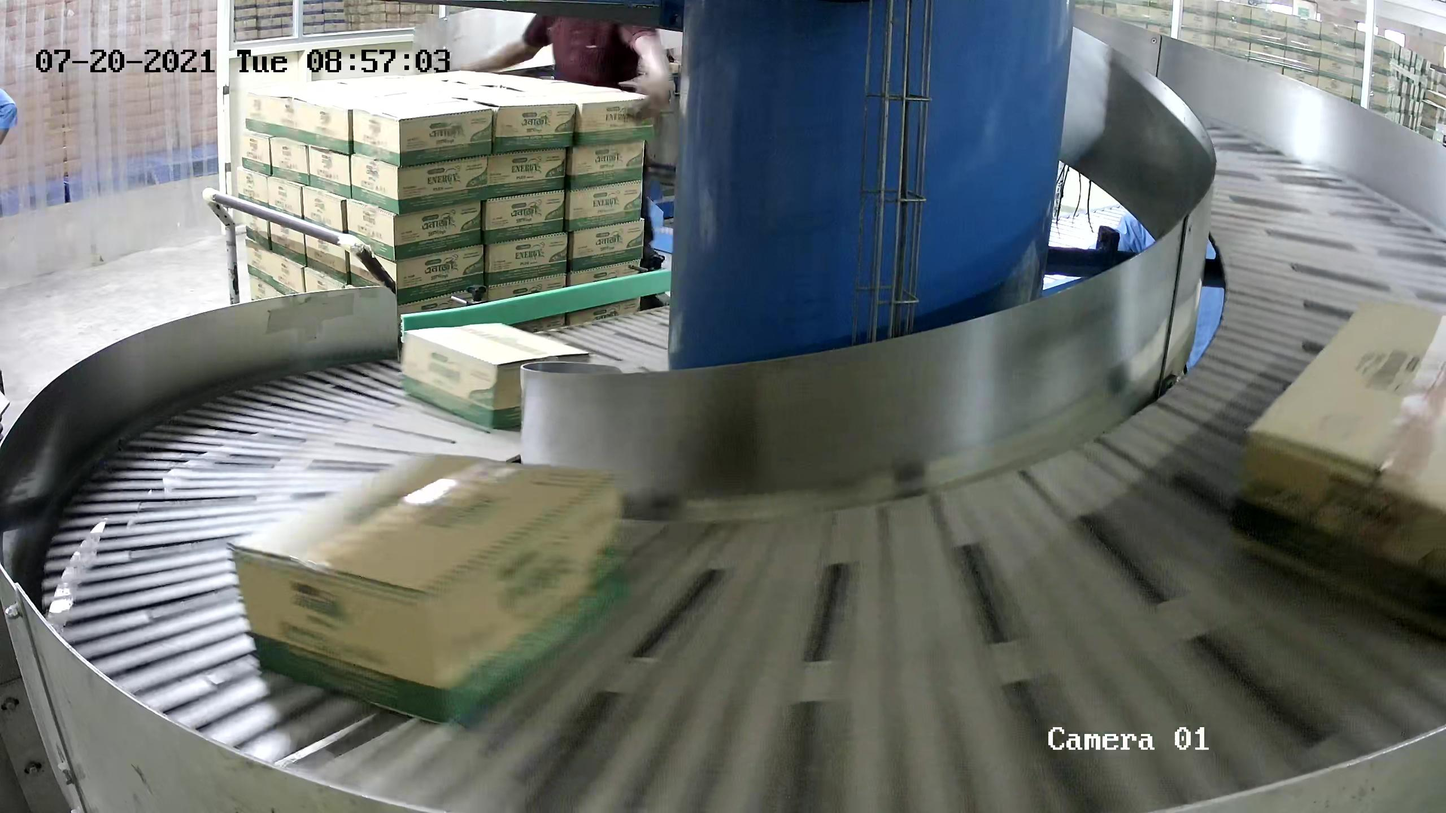Box: (226, 452, 631, 724), (1218, 288, 1446, 654), (400, 321, 592, 430)
